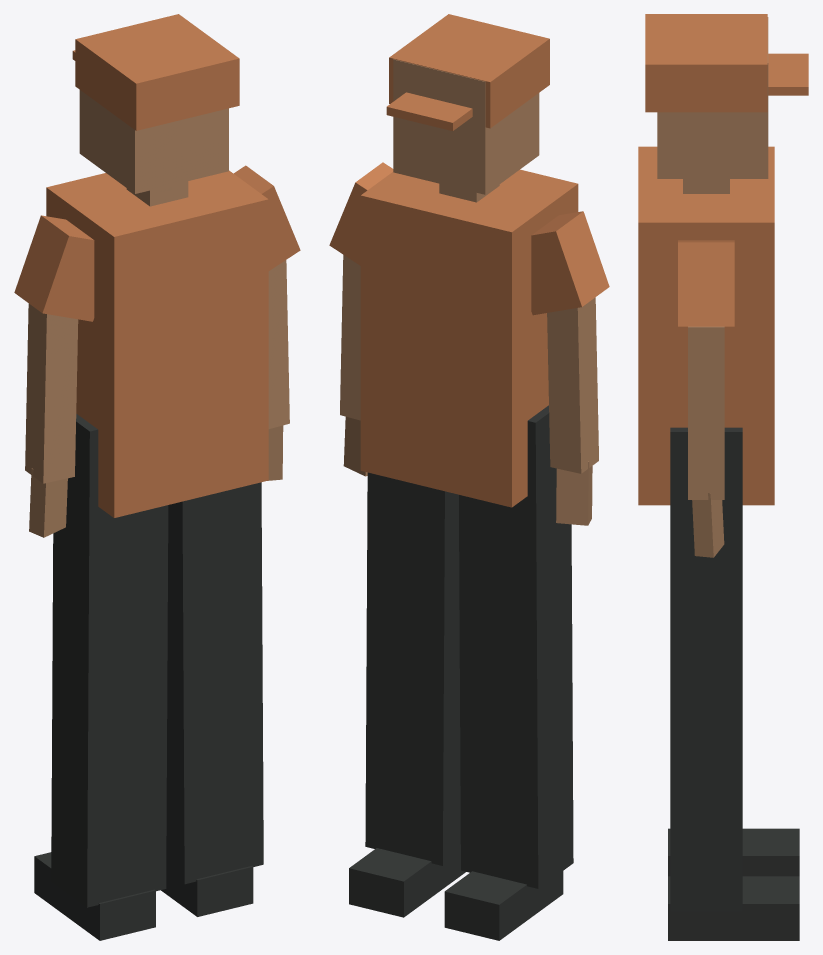
Rendered from pedestrian_09_far.glb.
3 views of the same model, side by side, from view 1: azimuth 30°, elevation 25°; view 2: azimuth 150°, elevation 25°; view 3: azimuth 270°, elevation 25° (orthographic). The views are drawn at different scales.
Visible parts, largest first — view 1: pedestrian_09 crowd_trousers.001, pedestrian_09 crowd_shirt.001, pedestrian_09 crowd_skin.001, pedestrian_09 crowd_accessory.001, pedestrian_09 crowd_rubber.001; view 2: pedestrian_09 crowd_trousers.001, pedestrian_09 crowd_shirt.001, pedestrian_09 crowd_skin.001, pedestrian_09 crowd_accessory.001, pedestrian_09 crowd_rubber.001; view 3: pedestrian_09 crowd_shirt.001, pedestrian_09 crowd_trousers.001, pedestrian_09 crowd_skin.001, pedestrian_09 crowd_accessory.001, pedestrian_09 crowd_rubber.001.
Part boxes in pixels (box(x1,y1,x2,y2)): pedestrian_09 crowd_trousers.001: box(51, 414, 263, 907); pedestrian_09 crowd_shirt.001: box(14, 165, 300, 517); pedestrian_09 crowd_skin.001: box(25, 90, 289, 537); pedestrian_09 crowd_accessory.001: box(72, 14, 239, 130); pedestrian_09 crowd_rubber.001: box(34, 852, 253, 940); pedestrian_09 crowd_trousers.001: box(365, 405, 573, 888); pedestrian_09 crowd_shirt.001: box(329, 162, 609, 507); pedestrian_09 crowd_skin.001: box(340, 59, 598, 525); pedestrian_09 crowd_accessory.001: box(386, 14, 549, 130); pedestrian_09 crowd_rubber.001: box(349, 848, 563, 940); pedestrian_09 crowd_shirt.001: box(638, 146, 774, 505); pedestrian_09 crowd_trousers.001: box(670, 427, 742, 911); pedestrian_09 crowd_skin.001: box(657, 17, 768, 557); pedestrian_09 crowd_accessory.001: box(645, 14, 808, 112); pedestrian_09 crowd_rubber.001: box(668, 828, 799, 940).
Size of the model in its own units: 0.5717 by 1.82 by 0.325.
